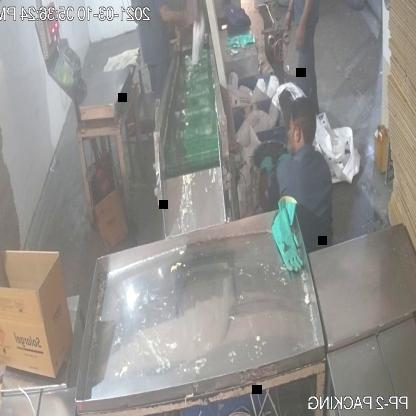no_glove: (294, 0, 319, 52)
